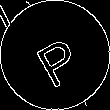P_NW: (26, 24, 84, 86)
